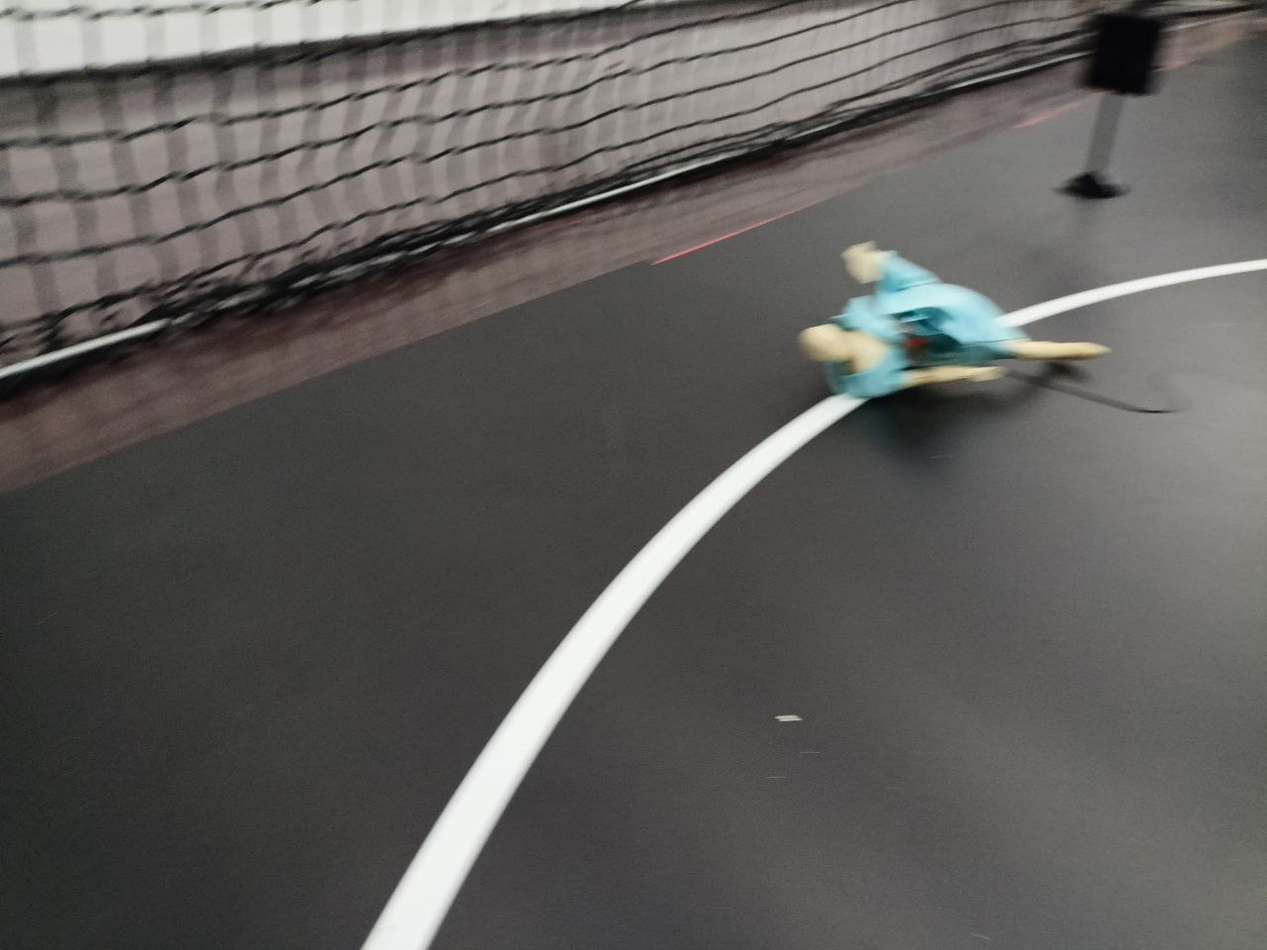Road works: (773, 214, 1100, 414)
